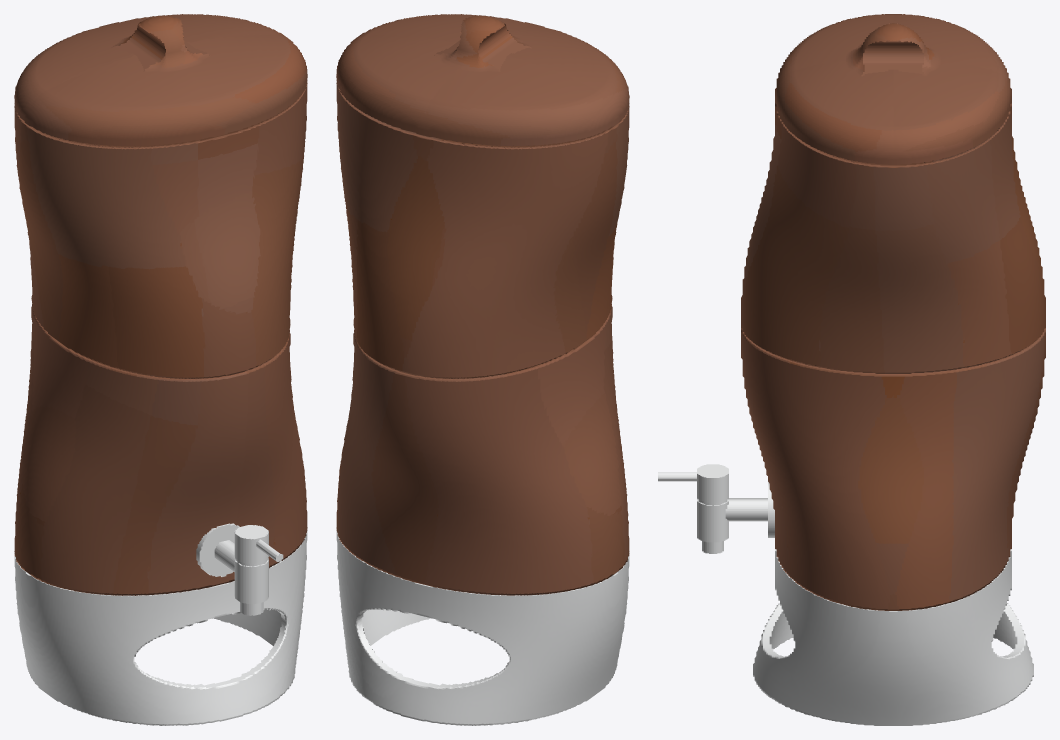
File: filtro_keyshot.glb
The picture shows the model from 3 angles, left to right: view 1: azimuth 30°, elevation 25°; view 2: azimuth 150°, elevation 25°; view 3: azimuth 270°, elevation 25°; orthographic projection.
Visible parts, largest first — view 1: P_Aprovado (×5); view 2: P_Aprovado (×4); view 3: P_Aprovado (×5).
Part boxes in pixels (left/top/right/bottom): P_Aprovado (×5): left=14, top=14, right=307, bottom=725; P_Aprovado (×4): left=336, top=14, right=629, bottom=725; P_Aprovado (×5): left=658, top=14, right=1045, bottom=725.
Size of what is drawn, in the model's own units: 0.221 by 0.5114 by 0.2796.
5 materials, 3 textured.
